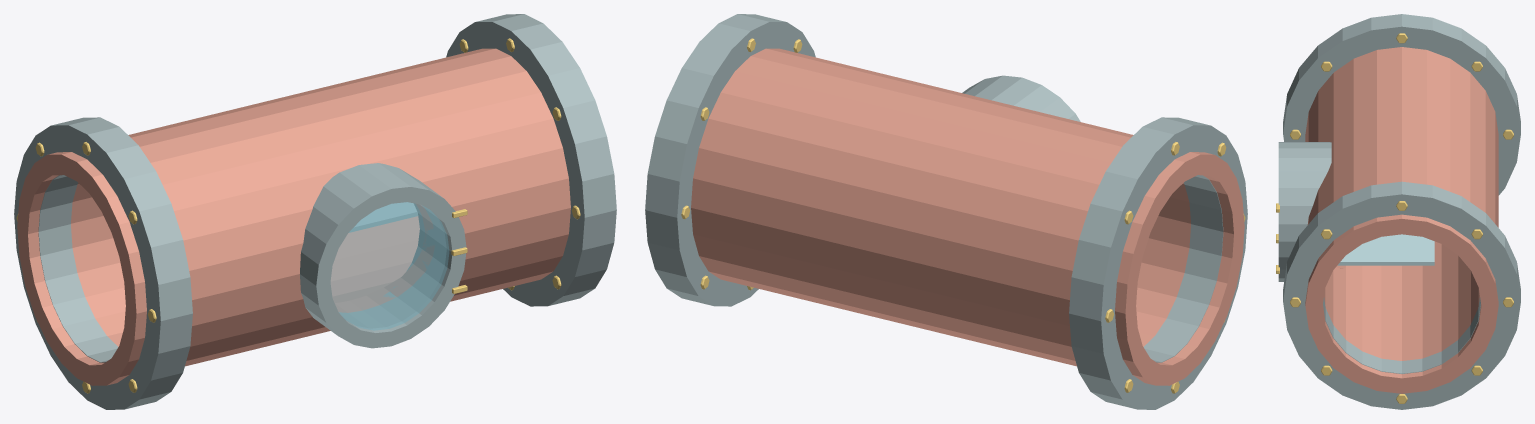
Rendered from Systems-PipeSightGlass.fbx.
The picture shows the model from 3 angles, left to right: view 1: azimuth 30°, elevation 25°; view 2: azimuth 150°, elevation 25°; view 3: azimuth 270°, elevation 25°; orthographic projection. The views are drawn at different scales.
Parts seen in each view (by area): view 1: Pipe Body, Connector Flange, Window Frame, Connector Flange.001, Transparent Window, Flange Bolt Mesh, Water Surface; view 2: Pipe Body, Connector Flange, Connector Flange.001, Window Frame, Flange Bolt Mesh; view 3: Pipe Body, Connector Flange.001, Connector Flange, Window Frame, Water Surface, Flange Bolt Mesh.
Part boxes in pixels (box(x1,y1,x2,y2)): Pipe Body: box(17, 48, 570, 385); Connector Flange: box(14, 117, 192, 409); Window Frame: box(300, 163, 466, 348); Connector Flange.001: box(446, 14, 616, 306); Transparent Window: box(330, 202, 449, 330); Flange Bolt Mesh: box(16, 38, 580, 393); Water Surface: box(349, 202, 418, 232); Pipe Body: box(691, 48, 1244, 385); Connector Flange: box(1069, 117, 1247, 409); Connector Flange.001: box(645, 14, 815, 306); Window Frame: box(962, 75, 1080, 121); Flange Bolt Mesh: box(681, 38, 1245, 393); Pipe Body: box(1305, 47, 1498, 393); Connector Flange.001: box(1283, 181, 1520, 409); Connector Flange: box(1283, 14, 1520, 195); Window Frame: box(1278, 142, 1331, 281); Water Surface: box(1337, 234, 1434, 265); Flange Bolt Mesh: box(1290, 33, 1513, 403).
Size of the model in its own units: 1.04 by 0.554 by 0.5705.
